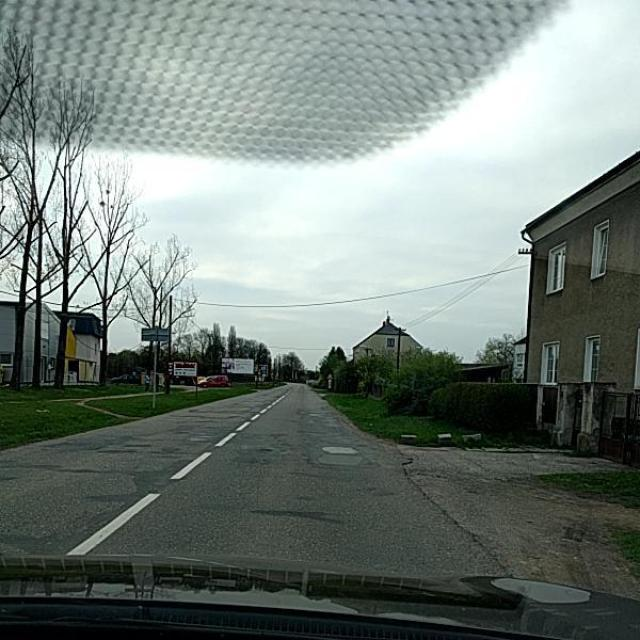Surface Erosion: (50, 367, 418, 574)
